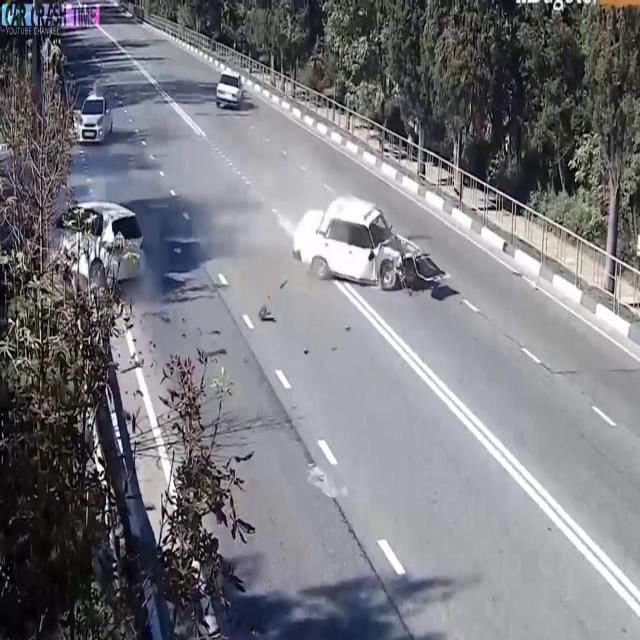accident: (0, 183, 156, 308), (287, 188, 455, 303)
